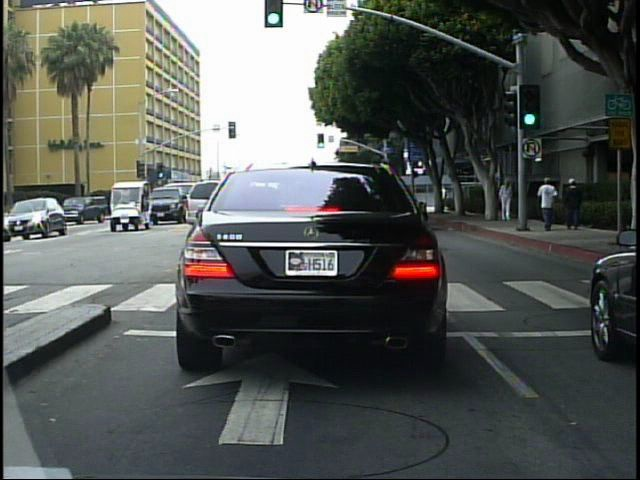person: (539, 172, 562, 233), (564, 173, 587, 233), (498, 178, 516, 226), (437, 181, 451, 216)
